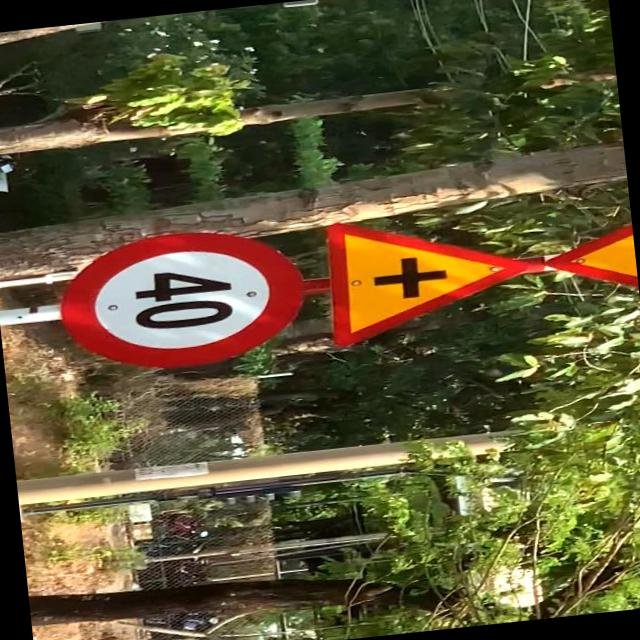P-127: (56, 222, 310, 378)
W-205a: (320, 202, 533, 347)
